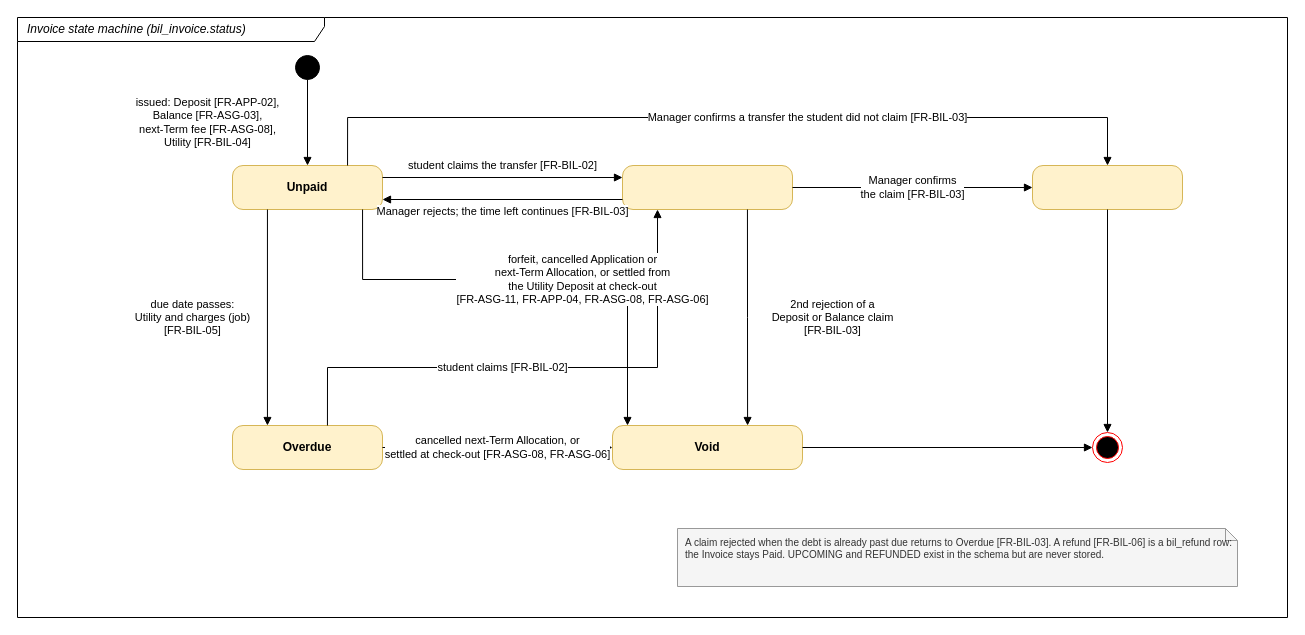
The diagram is 1305 pixels wide and 635 high, and some of its shapes have lost their labels. Here are the shapes that lost their labels. From the top down, the box of each, then its label:
(622, 164, 792, 210): Awaiting confirmation
(1032, 164, 1182, 210): Paid
